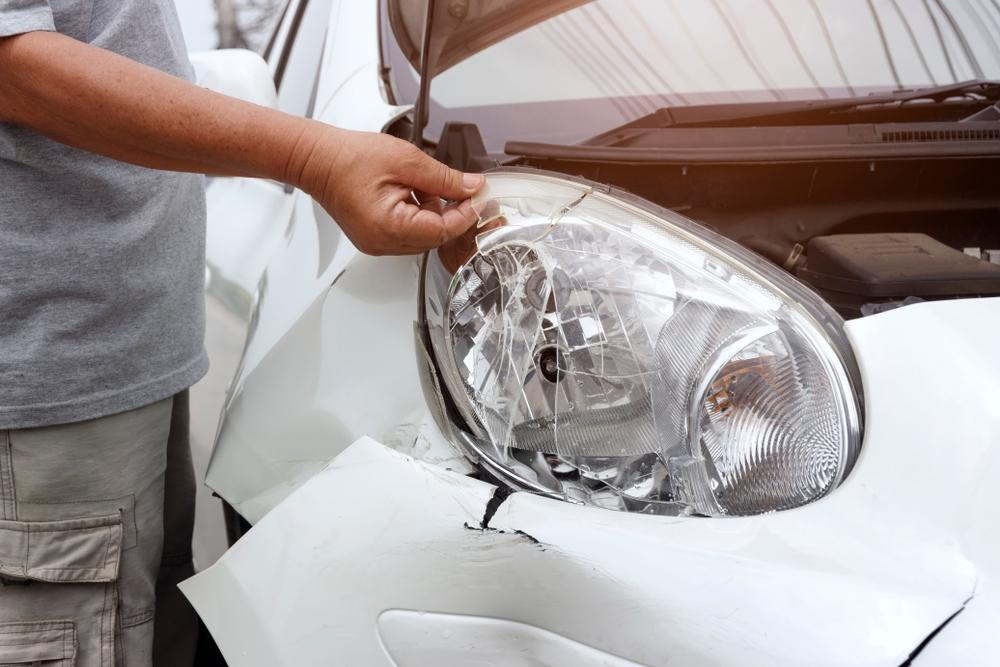crack: (895, 570, 978, 667), (462, 486, 543, 548)
dent: (302, 536, 690, 667)
lamp broken: (428, 177, 866, 515)
